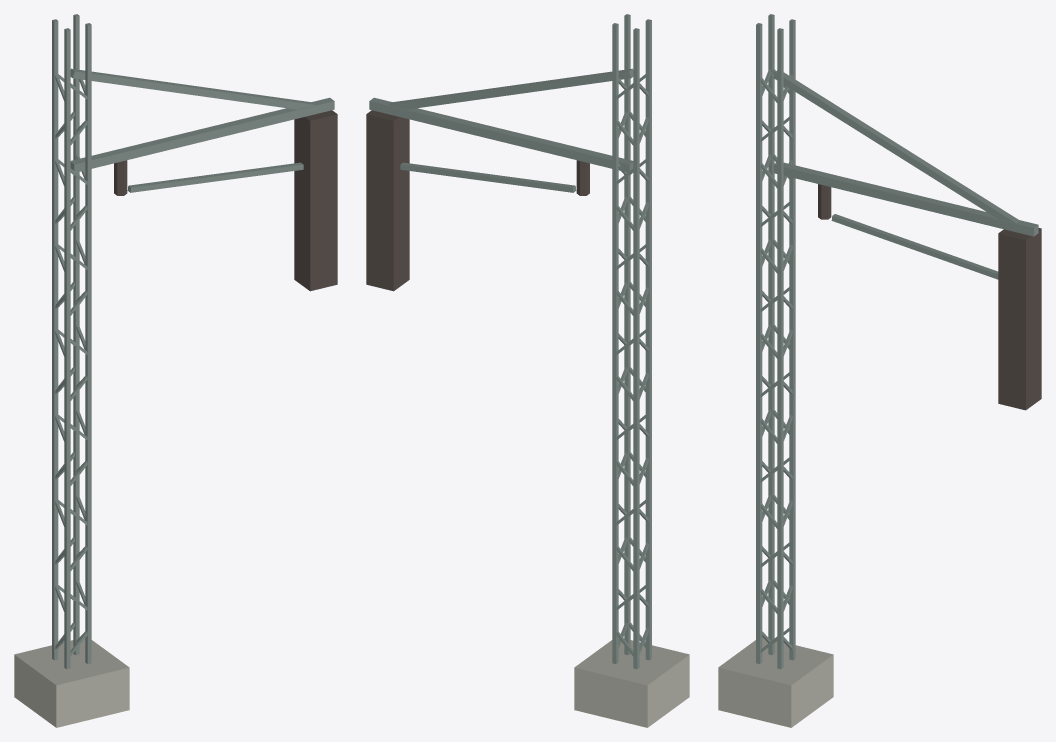
The model's file is SM_poste_catenaria_LOD0.fbx.
3 views of the same model, side by side, from view 1: azimuth 30°, elevation 25°; view 2: azimuth 150°, elevation 25°; view 3: azimuth 330°, elevation 25° (orthographic).
Visible parts, largest first — view 1: SM_bloques.poste_catenaria_v0_LOD0; view 2: SM_bloques.poste_catenaria_v0_LOD0; view 3: SM_bloques.poste_catenaria_v0_LOD0.
Boxes of the visible parts, x1=… form: SM_bloques.poste_catenaria_v0_LOD0: x1=14, y1=14, x2=337, y2=727; SM_bloques.poste_catenaria_v0_LOD0: x1=366, y1=14, x2=689, y2=727; SM_bloques.poste_catenaria_v0_LOD0: x1=718, y1=14, x2=1041, y2=727.
Size of the model in its own units: 3.65 by 8 by 0.9.
